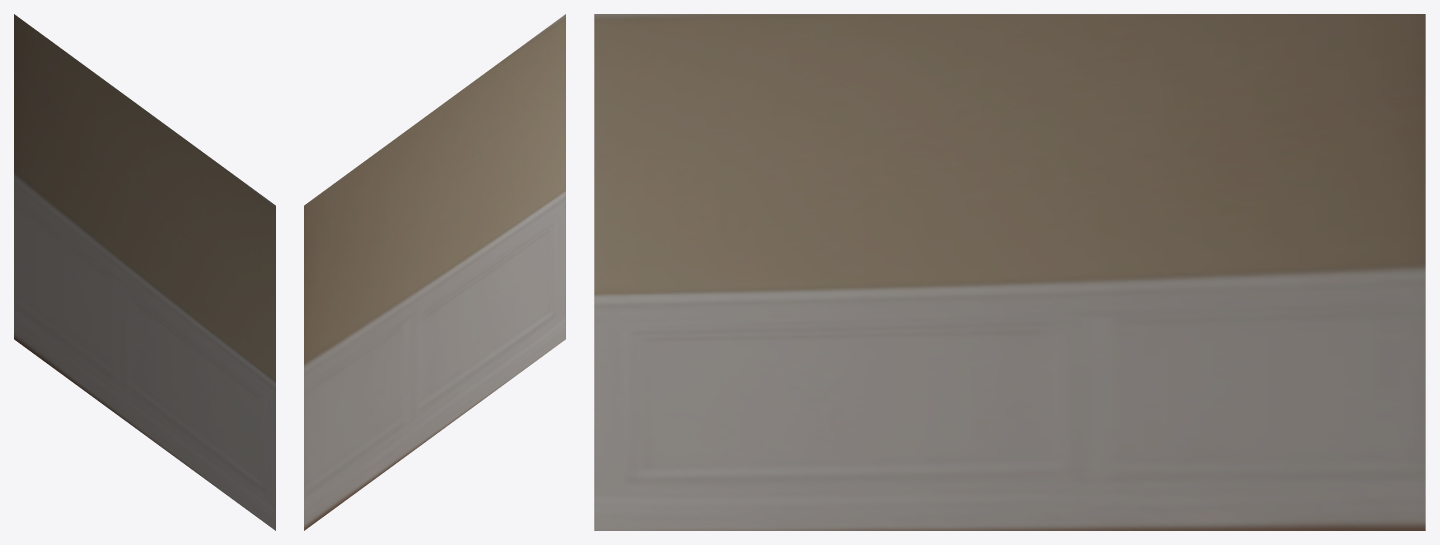
The model's file is wall.004.obj.
The picture shows the model from 3 angles, left to right: view 1: azimuth 30°, elevation 25°; view 2: azimuth 150°, elevation 25°; view 3: azimuth 270°, elevation 25°; orthographic projection. The views are drawn at different scales.
Visible parts, largest first — view 1: wall.004; view 2: wall.004; view 3: wall.004.
Part boxes in pixels (box(x1,y1,x2,y2)): wall.004: box(14, 14, 275, 530); wall.004: box(304, 14, 565, 530); wall.004: box(594, 14, 1425, 530).
Bounding box in the file's own units: 3.43e-05 × 75.02 × 109.
